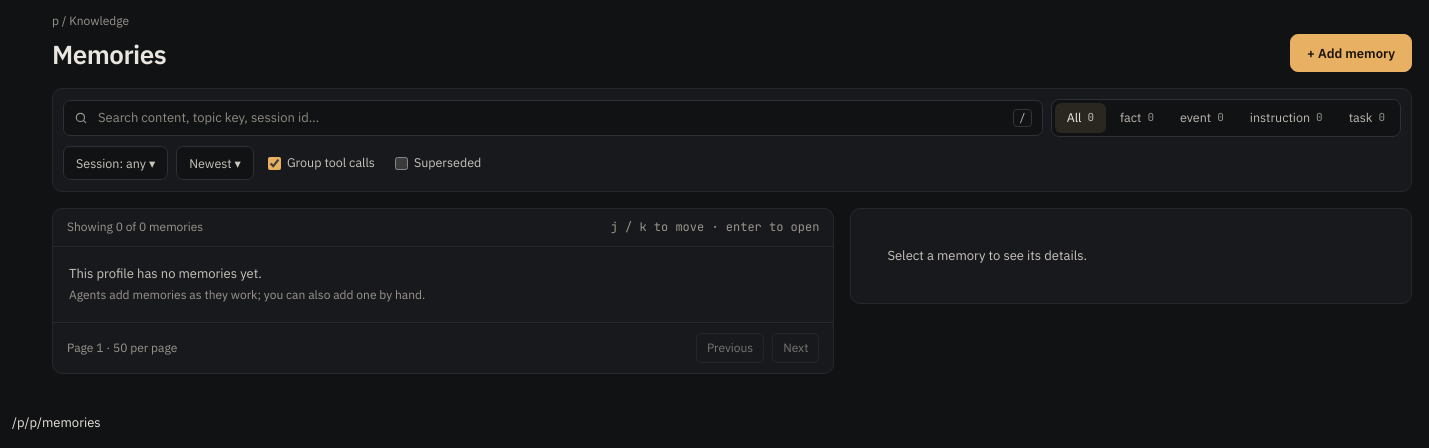
Scenario: MemoriesPage › sends filters to the server and resets paging
This screenshot has width=1429, height=448.
Click the button "task 0" at (1367, 118), box [1337,103,1397,133]
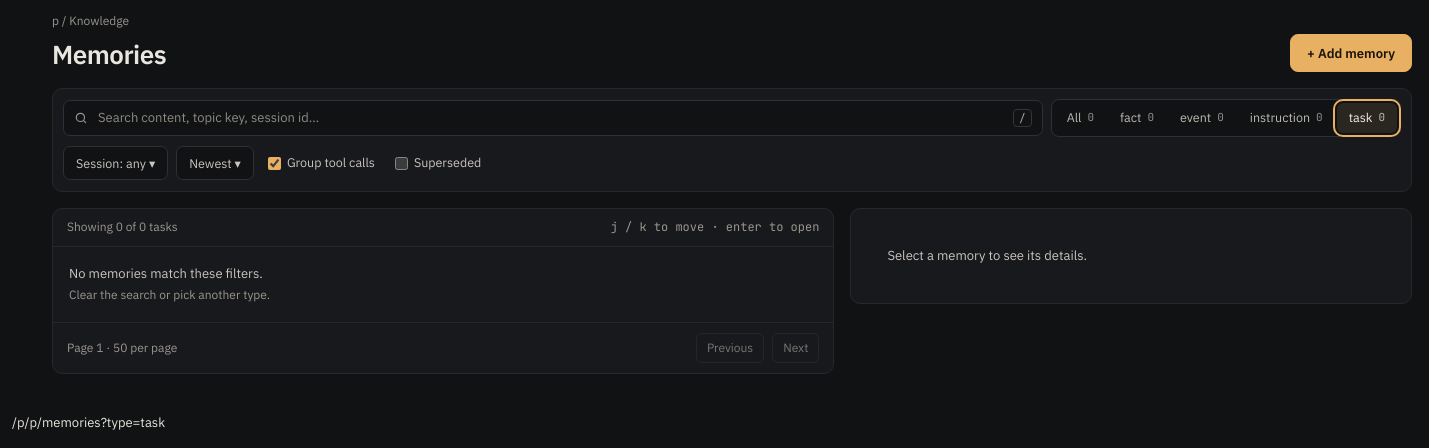
Now the text with test id "location" reads "/p/p/memories?type=task", box [12,414,165,431]
